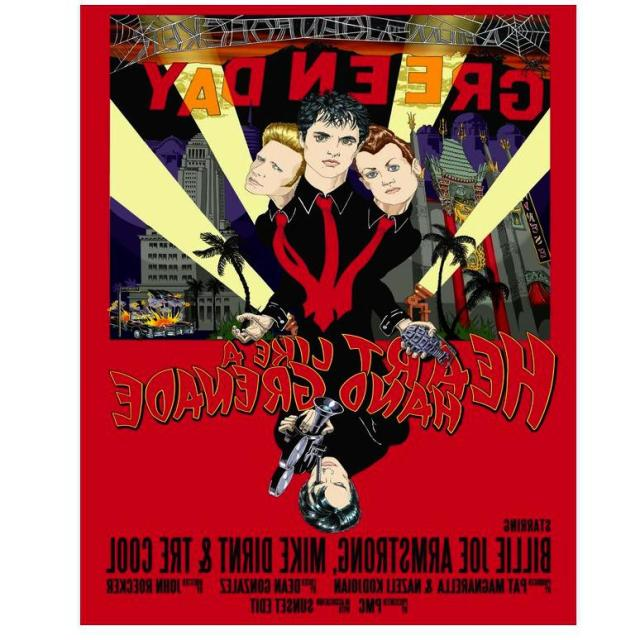grenade: (402, 323, 458, 365)
